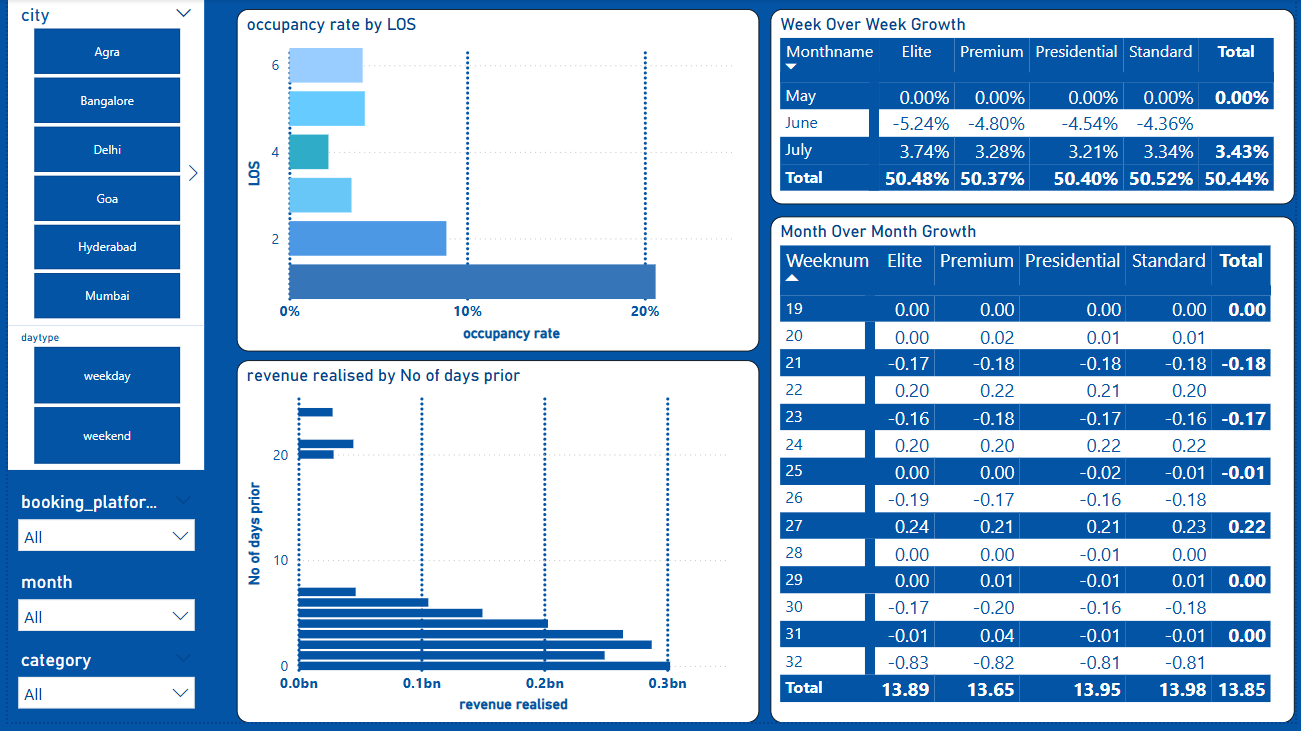

The page's visual inventory and layout, read from the dashboard file:
{"tool":"powerbi","page":{"name":"Bookings2","canvas":[1280,720],"ordinal":3},"visuals":[{"type":"pivotTable","title":"Week Over Week  Growth","fields":{"Rows":["calender.monthname"],"Columns":["rooms.room_class"],"Values":["Table.MOM growth"]},"box":[758.8,10,521.2,194.1],"z":0},{"type":"pivotTable","title":"Month  Over Month Growth","fields":{"Values":["Table.WOW growth"],"Columns":["rooms.room_class"],"Rows":["calender.weeknum"]},"box":[758.8,216.4,521.2,503.8],"z":1000},{"type":"barChart","fields":{"Y":["Table.revenue realised"],"Category":["bookings.No of days prior"]},"box":[227.6,359.5,520,360.7],"z":2000},{"type":"slicer","fields":{"Values":["hotels.city"]},"box":[0,0,195.3,324.7],"z":3000},{"type":"slicer","fields":{"Values":["calender.month"]},"box":[0,564.8,195.3,77.1],"z":4000},{"type":"slicer","fields":{"Values":["calender.daytype"]},"box":[0,324.7,195.3,144.3],"z":5000},{"type":"slicer","fields":{"Values":["hotels.category"]},"box":[0,641.9,195.3,78.4],"z":6000},{"type":"slicer","fields":{"Values":["bookings.booking_platform"]},"box":[0,485.1,195.3,79.6],"z":7000},{"type":"barChart","fields":{"Y":["Table.occupancy rate"],"Category":["bookings.LOS"]},"box":[227.6,10,520,340.8],"z":8000}]}

Visuals, with their boxes in screenshot pixels (x1, y1, x2, y2), scaled from the page's 1280x720 canvas onto the 1301x731 screenshot:
"Week Over Week  Growth" pivotTable: [left=771, top=10, right=1300, bottom=207]
"Month  Over Month Growth" pivotTable: [left=771, top=220, right=1300, bottom=730]
barChart - Table.revenue realised x bookings.No of days prior: [left=231, top=365, right=760, bottom=730]
slicer - hotels.city: [left=0, top=0, right=199, bottom=330]
slicer - calender.month: [left=0, top=573, right=199, bottom=652]
slicer - calender.daytype: [left=0, top=330, right=199, bottom=476]
slicer - hotels.category: [left=0, top=652, right=199, bottom=730]
slicer - bookings.booking_platform: [left=0, top=493, right=199, bottom=573]
barChart - Table.occupancy rate x bookings.LOS: [left=231, top=10, right=760, bottom=356]
